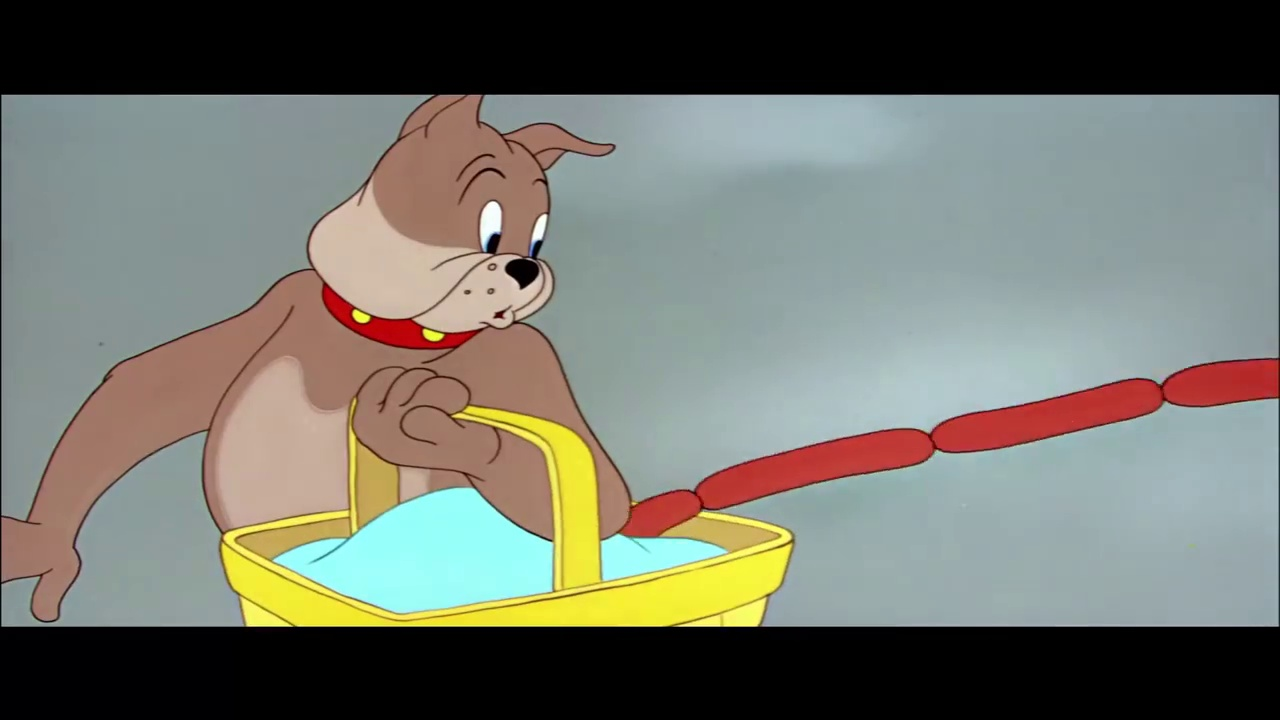spike: (305, 92, 624, 355)
